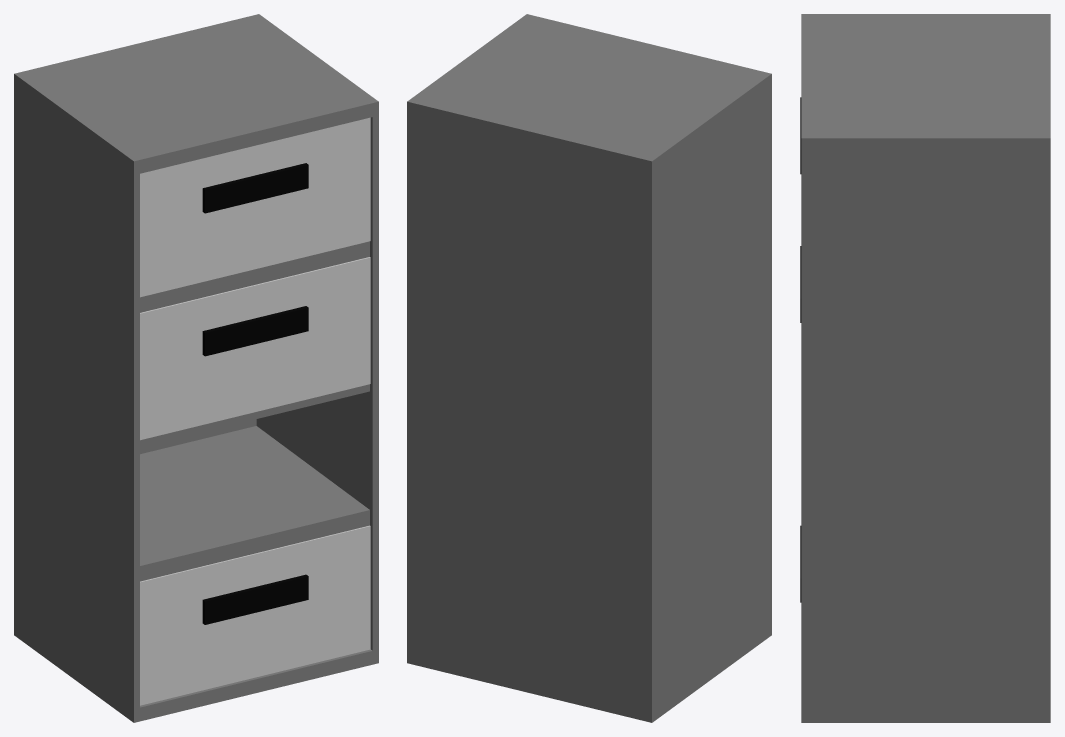
File: FilingCabinet.fbx
3 views of the same model, side by side, from view 1: azimuth 30°, elevation 25°; view 2: azimuth 150°, elevation 25°; view 3: azimuth 270°, elevation 25° (orthographic). The views are drawn at different scales.
Visible parts, largest first — view 1: Cube, Cube.003, Cube.005, Cube.001, Cube.004, Cube.002, Cube.006; view 2: Cube; view 3: Cube.
Boxes of the visible parts, x1,y1,x2,y2 form: Cube: (14, 14, 378, 722); Cube.003: (140, 257, 370, 440); Cube.005: (140, 525, 370, 705); Cube.001: (140, 117, 370, 297); Cube.004: (202, 306, 308, 356); Cube.002: (202, 163, 308, 213); Cube.006: (202, 574, 308, 624); Cube: (407, 14, 771, 722); Cube: (801, 14, 1050, 722).
Bounding box in the file's own units: 472 × 1034 × 402.
